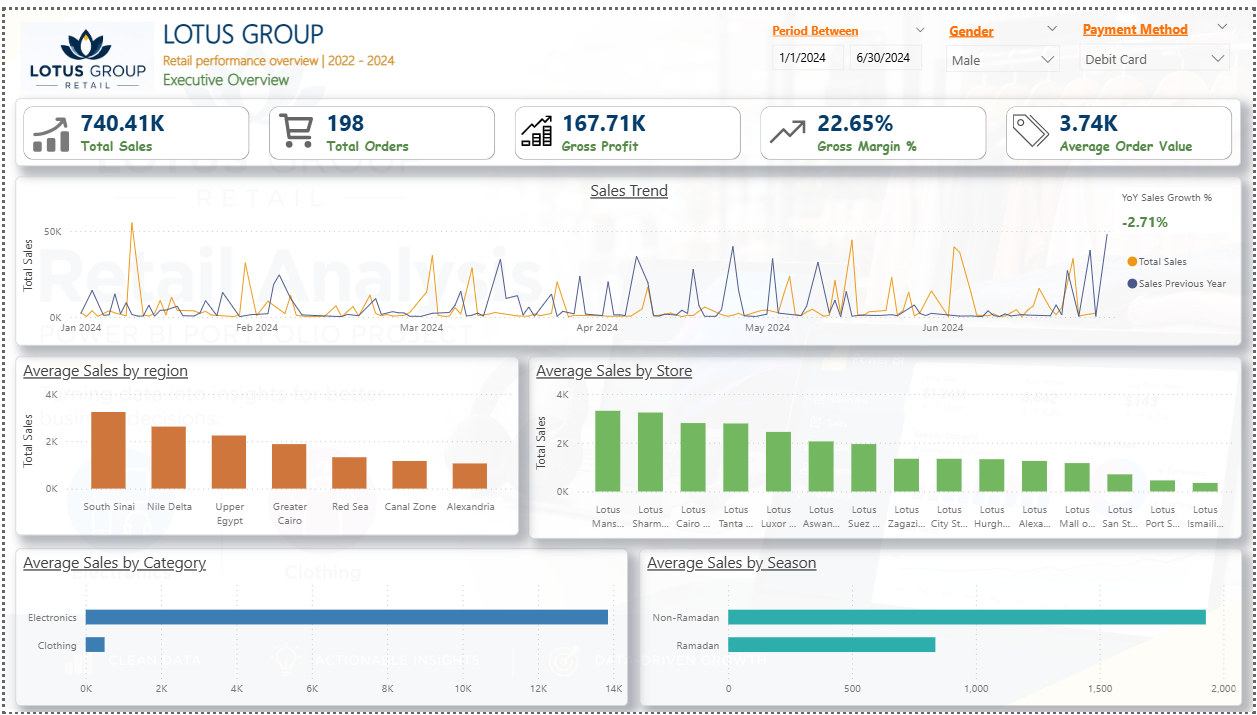

What the dashboard file says about the page in this screenshot:
{"tool":"powerbi","page":{"name":"Executve Overview","canvas":[1280,720],"ordinal":0},"visuals":[{"type":"textbox","box":[10.6,0,306.6,91.6],"z":0},{"type":"cardVisual","fields":{"Data":["_Measures.Total Sales","_Measures.Total Orders","_Measures.Gross Profit","_Measures.Gross Margin %","_Measures.Average Order Value"]},"box":[10.6,90.3,1257,69],"z":1000},{"type":"lineChart","title":"Sales Trend","fields":{"Y":["_Measures.Total Sales","_Measures.Sales Previous Year"],"Category":["dim_date.full_date"]},"box":[10.6,171.1,1256.8,174.1],"z":2000},{"type":"slicer","fields":{"Values":["dim_date.full_date"]},"box":[774.1,8.2,182.4,63.5],"z":3000},{"type":"cardVisual","fields":{"Data":["_Measures.YoY Sales Growth %"]},"box":[1132.1,176.8,131.8,57.4],"z":4000},{"type":"clusteredBarChart","title":"Sales by Category","fields":{"Category":["dim_products.category"],"Y":["_Measures.Total Sales"]},"box":[10.9,552.1,628.1,161.3],"z":5000},{"type":"clusteredColumnChart","title":"Sales by Store","fields":{"Category":["dim_stores.store_name"],"Y":["_Measures.Total Sales"]},"box":[537.5,357.4,729.8,187.8],"z":6000},{"type":"clusteredColumnChart","fields":{"Category":["dim_stores.region"],"Y":["_Measures.Total Sales"]},"box":[10.6,357.4,516.3,184.7],"z":7000},{"type":"clusteredBarChart","title":"Ramadan vs Non-Ramadan Sales","fields":{"Category":["dim_date.Period Type"],"Y":["_Measures.Total Sales"]},"box":[650.2,552.2,617.9,161.4],"z":8000},{"type":"slicer","fields":{"Values":["dim_customers.gender"]},"box":[955.3,6.2,136.5,63.6],"z":9000},{"type":"slicer","fields":{"Values":["fact_orders.payment_method"]},"box":[1091.8,4.7,174.1,60],"z":10000}]}

Visuals, with their boxes in screenshot pixels (x1, y1, x2, y2), scaled from the page's 1280x720 canvas onto the 1257x715 screenshot:
textbox: crop(10, 0, 312, 91)
cardVisual - _Measures.Total Sales x _Measures.Total Orders: crop(10, 90, 1245, 158)
"Sales Trend" lineChart: crop(10, 170, 1245, 343)
slicer - dim_date.full_date: crop(760, 8, 939, 71)
cardVisual - _Measures.YoY Sales Growth %: crop(1112, 176, 1241, 233)
"Sales by Category" clusteredBarChart: crop(11, 548, 628, 708)
"Sales by Store" clusteredColumnChart: crop(528, 355, 1245, 541)
clusteredColumnChart - dim_stores.region x _Measures.Total Sales: crop(10, 355, 517, 538)
"Ramadan vs Non-Ramadan Sales" clusteredBarChart: crop(639, 548, 1245, 709)
slicer - dim_customers.gender: crop(938, 6, 1072, 69)
slicer - fact_orders.payment_method: crop(1072, 5, 1243, 64)
